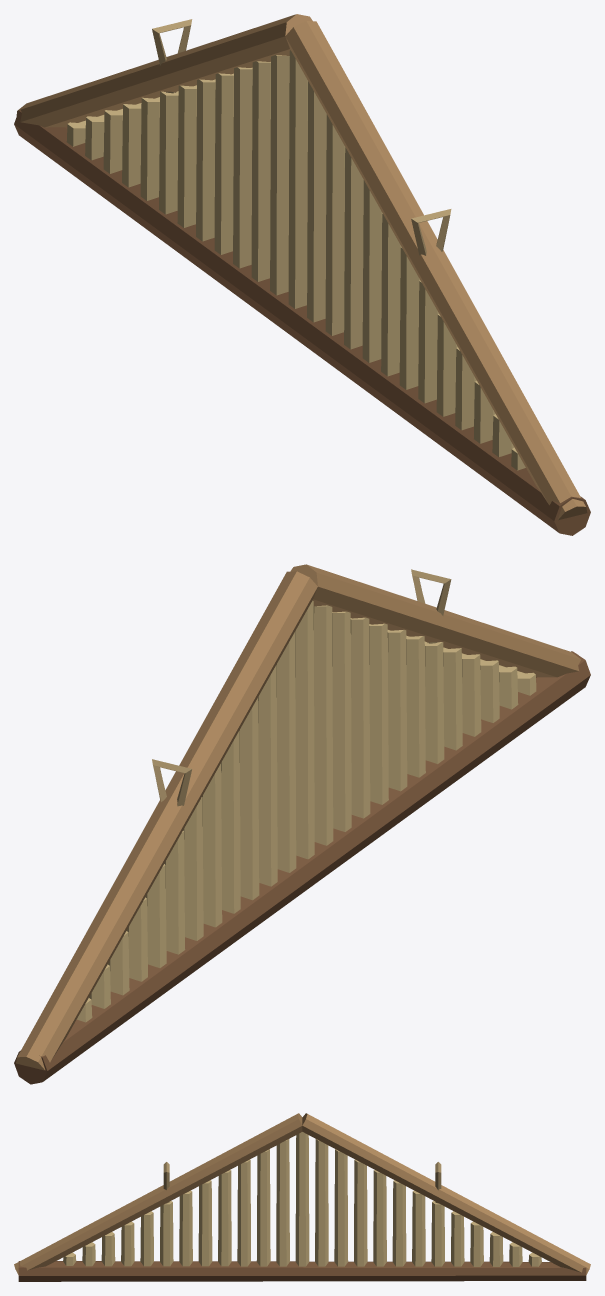
3 renders of one model, top to bottom at view 1: azimuth 30°, elevation 25°; view 2: azimuth 150°, elevation 25°; view 3: azimuth 270°, elevation 25°, orthographic. The views are drawn at different scales.
Visible parts, largest first — view 1: BA-0008 batched; view 2: BA-0008 batched; view 3: BA-0008 batched.
Boxes of the visible parts, x1,y1,x2,y2 form: BA-0008 batched: (14, 14, 590, 535); BA-0008 batched: (14, 564, 590, 1084); BA-0008 batched: (14, 1113, 590, 1281).
Bounding box in the file's own units: 0.0989 × 0.7496 × 2.34.
